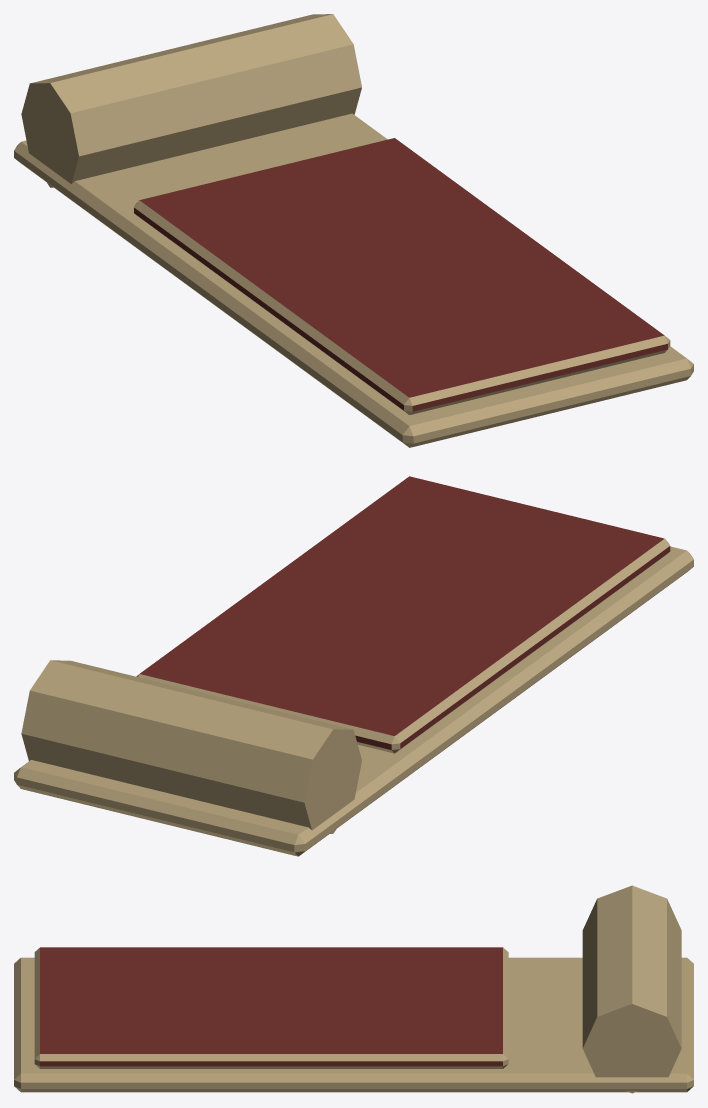
The model's file is bedroll.glb.
3 views of the same model, one above another, from view 1: azimuth 30°, elevation 25°; view 2: azimuth 150°, elevation 25°; view 3: azimuth 270°, elevation 25° (orthographic). The views are drawn at different scales.
Visible parts, largest first — view 1: Bedroll; view 2: Bedroll; view 3: Bedroll.
Boxes of the visible parts, bbox=[...] form: Bedroll: bbox=[14, 14, 693, 447]; Bedroll: bbox=[14, 476, 693, 856]; Bedroll: bbox=[14, 885, 693, 1093].
Bounding box in the file's own units: 0.7 × 0.24 × 1.65.
